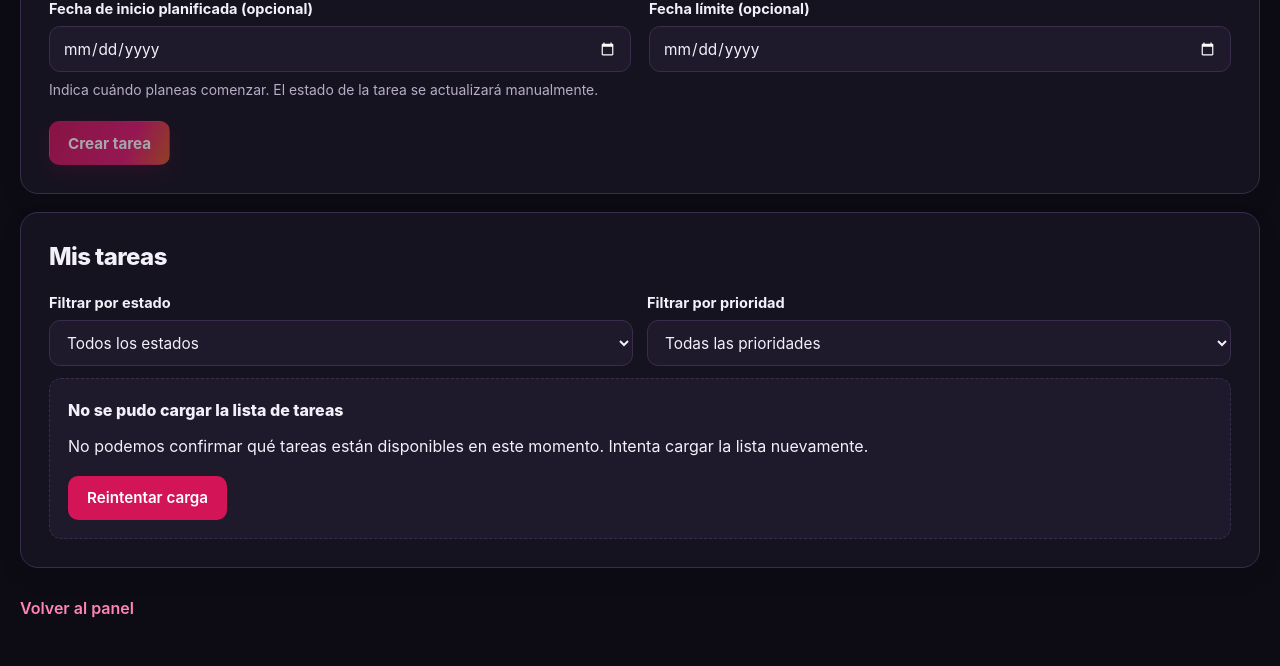
Interfaz de gestión de tareas › recupera la lista cuando se reintenta una lectura fallida
(page scrolled)
Step 1. Click the button "Reintentar carga" → x=148, y=498, box x1=68 y1=476 x2=227 y2=520
(page scrolled)
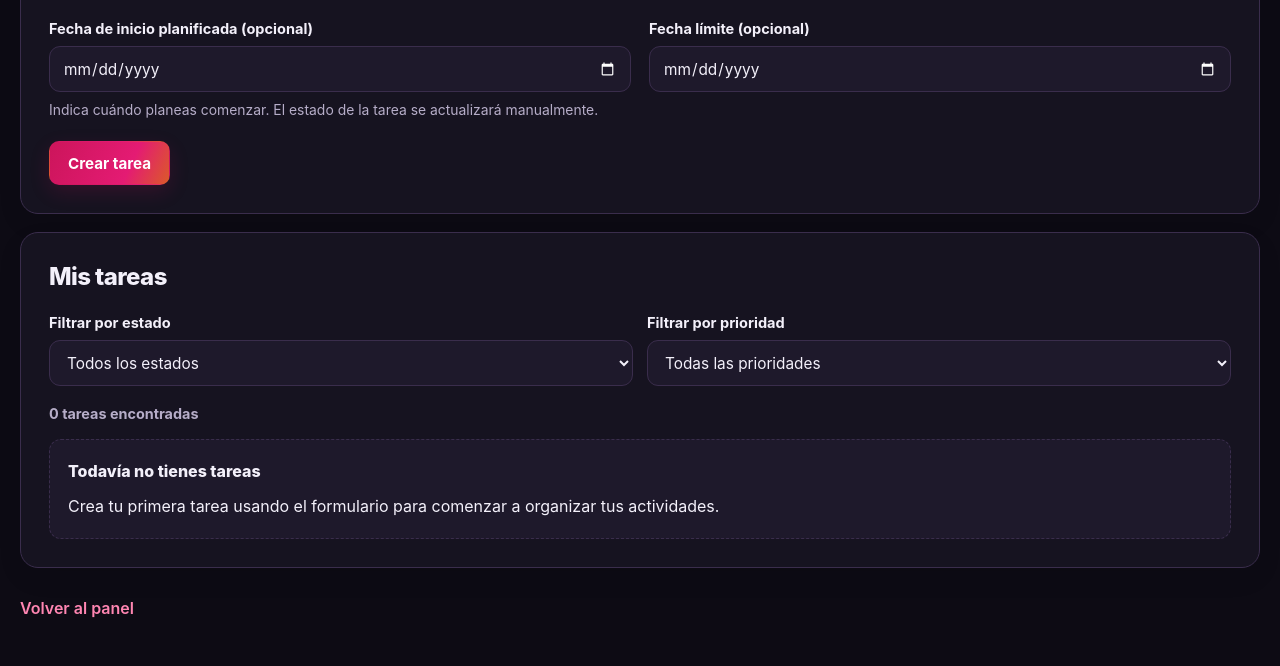
Expected: the text "0 tareas encontradas" is shown, x1=49 y1=405 x2=198 y2=422
Expected: the text "Todavía no tienes tareas" is shown, x1=68 y1=461 x2=261 y2=481
